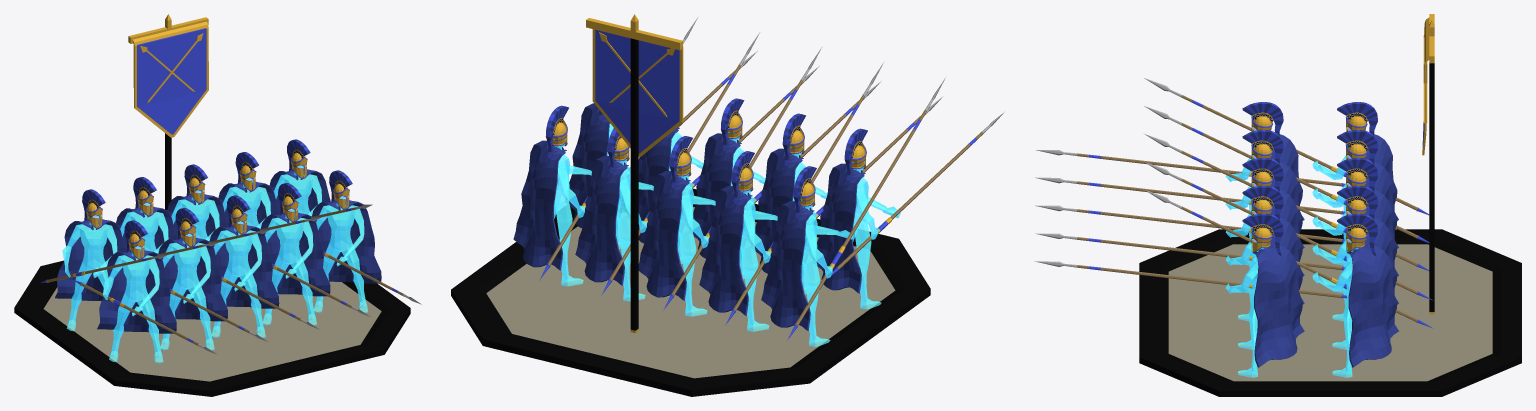
Rendered from blue spear unit merged.fbx.
3 renders of one model, left to right at view 1: azimuth 30°, elevation 25°; view 2: azimuth 150°, elevation 25°; view 3: azimuth 270°, elevation 25°, orthographic. The views are drawn at different scales.
Visible parts, largest first — view 1: Cube; view 2: Cube; view 3: Cube.
Boxes of the visible parts, bbox=[...] form: Cube: bbox=[14, 14, 421, 396]; Cube: bbox=[451, 14, 1004, 396]; Cube: bbox=[1034, 14, 1521, 396].
Size of the model in its own units: 500 by 428 by 638.
